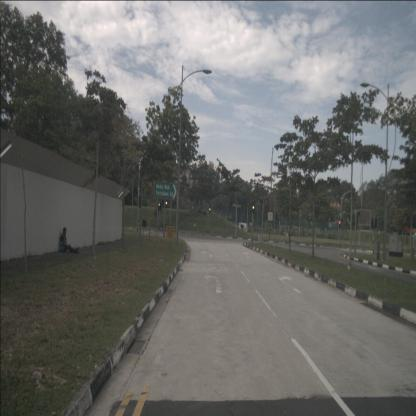human-pedestrian-adult: (59, 227, 80, 254)
